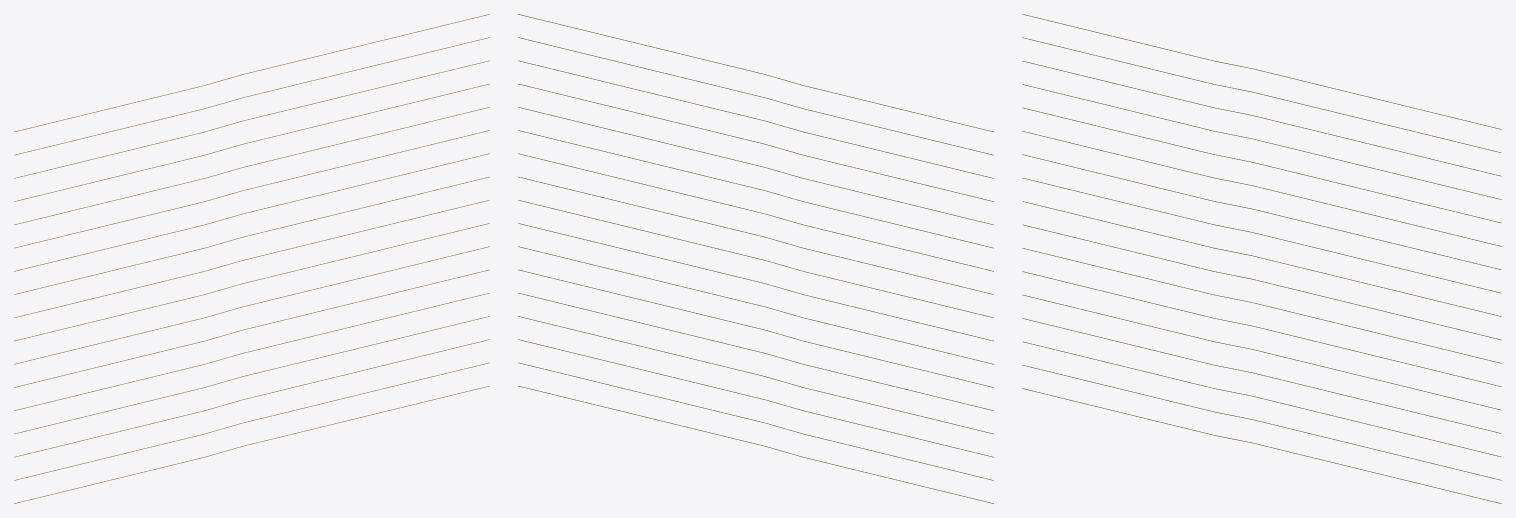
File: 098_L102_Trace_Repair.fbx
The picture shows the model from 3 angles, left to right: view 1: azimuth 30°, elevation 25°; view 2: azimuth 150°, elevation 25°; view 3: azimuth 330°, elevation 25°; orthographic projection.
Parts seen in each view (by area): view 1: Trace_Repair; view 2: Trace_Repair; view 3: Trace_Repair.
Boxes of the visible parts, left/top/right/bottom form: Trace_Repair: left=14, top=14, right=489, bottom=503; Trace_Repair: left=518, top=14, right=993, bottom=503; Trace_Repair: left=1022, top=14, right=1501, bottom=503.
Bounding box in the file's own units: 0.15 × 0.1126 × 2.5e-05.
